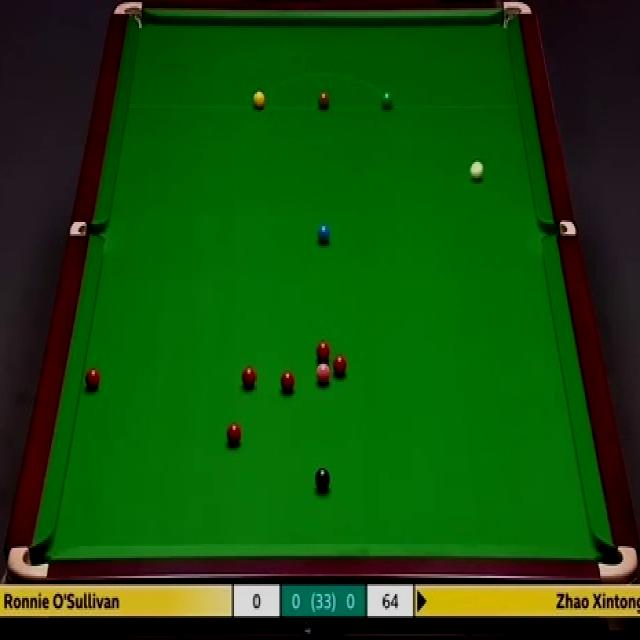black-ball: (314, 464, 330, 496)
blue-ball: (316, 225, 331, 242)
brown-ball: (317, 93, 332, 112)
green-ball: (381, 92, 394, 108)
pink-ball: (315, 364, 332, 387)
red-ball: (225, 424, 243, 447), (85, 367, 99, 391), (240, 368, 257, 387), (279, 372, 294, 393), (314, 342, 332, 357), (333, 356, 347, 375)
white-ball: (470, 160, 485, 183)
yellow-ball: (253, 90, 265, 110)
